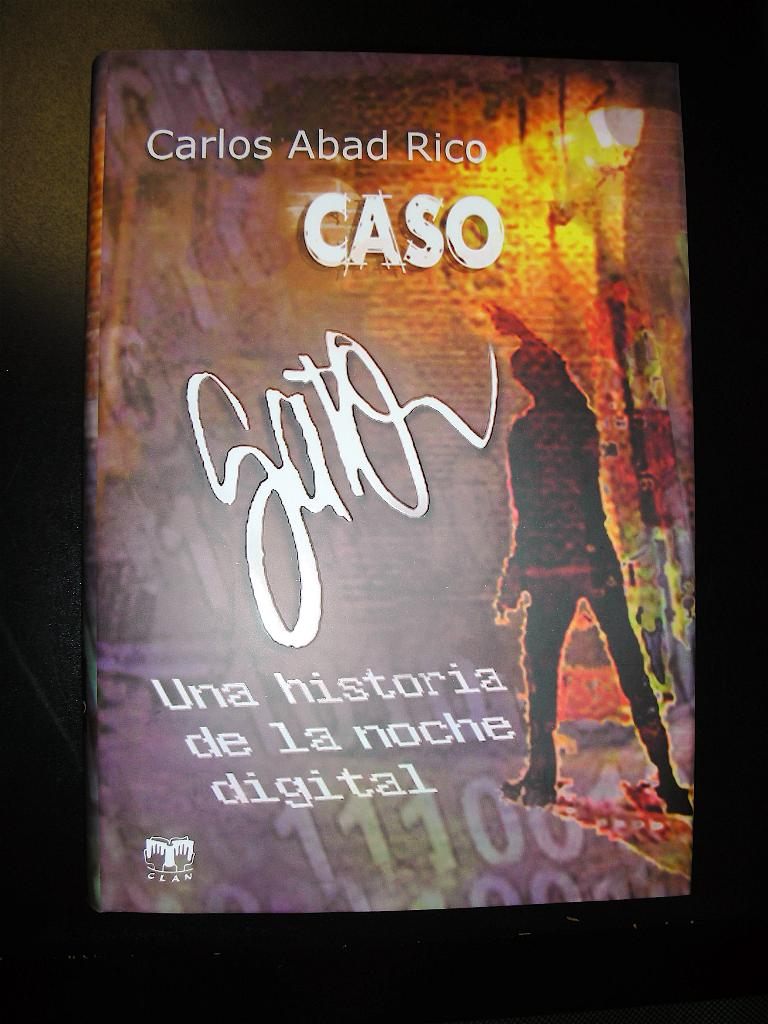Book: (86, 49, 696, 924)
